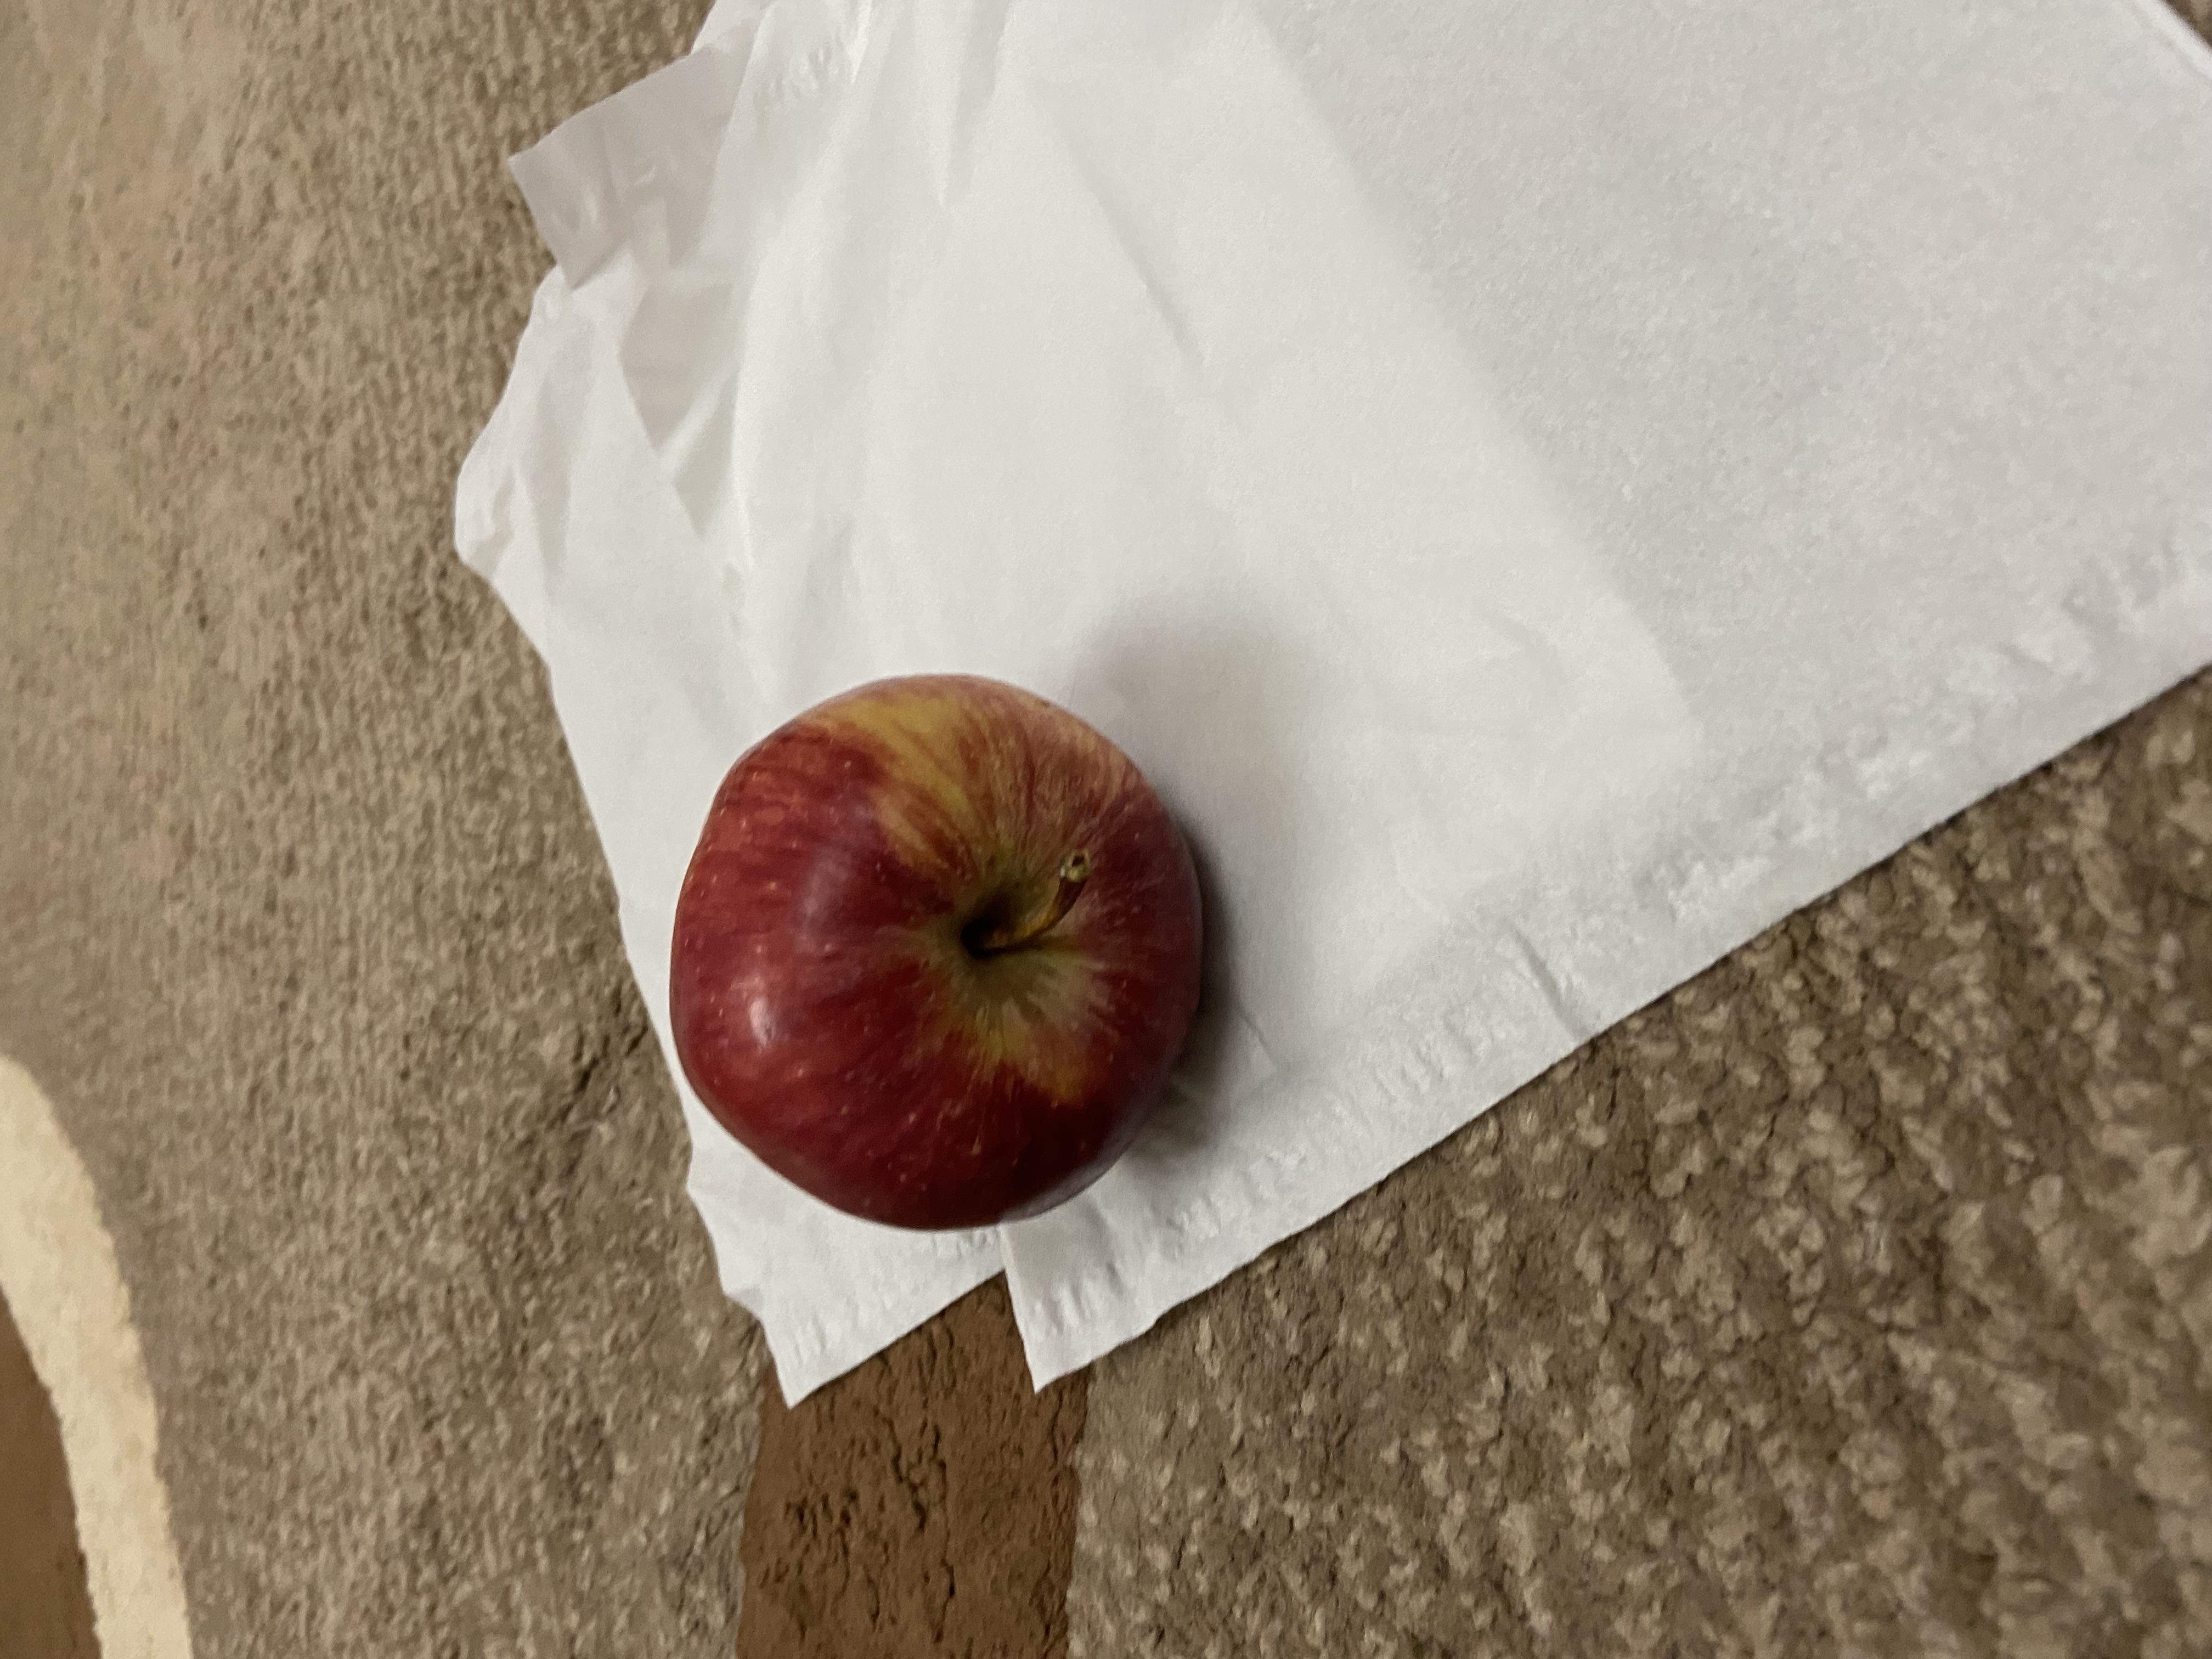Apple: (552, 493, 1332, 925)
